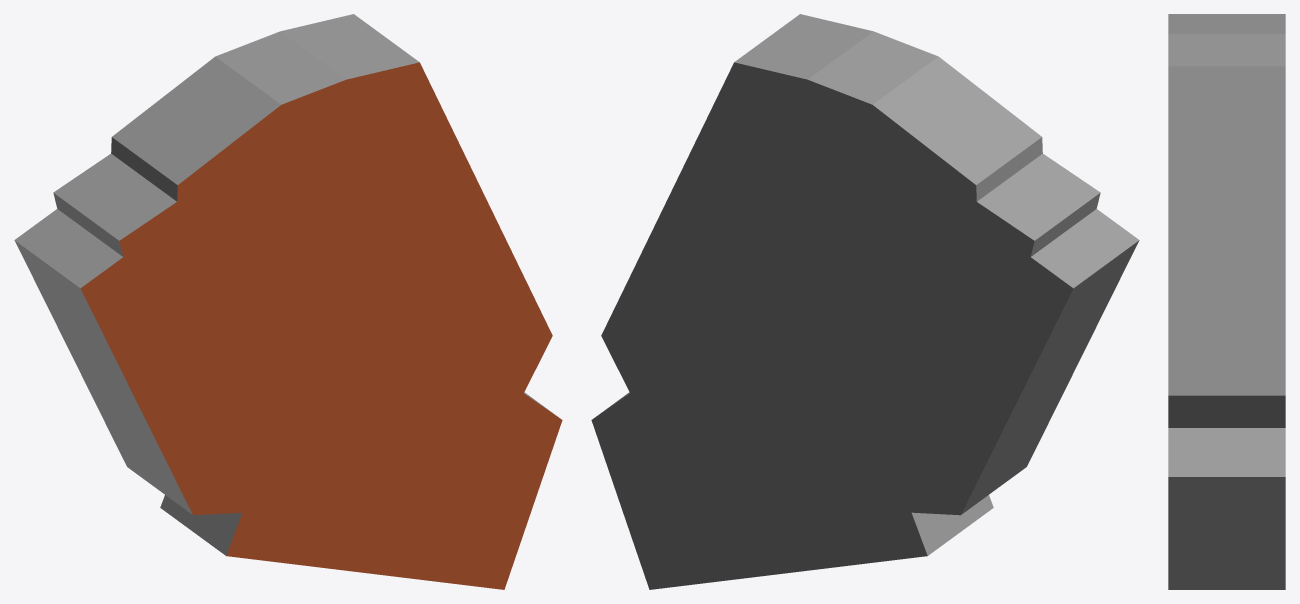
Rendered from construction_1076_assumed_A_Casa_h6m.obj.
3 views of the same model, side by side, from view 1: azimuth 30°, elevation 25°; view 2: azimuth 150°, elevation 25°; view 3: azimuth 270°, elevation 25° (orthographic). The views are drawn at different scales.
Visible parts, largest first — view 1: construction_1076_assumed_A_Casa; view 2: construction_1076_assumed_A_Casa; view 3: construction_1076_assumed_A_Casa.
Boxes of the visible parts, x1,y1,x2,y2 form: construction_1076_assumed_A_Casa: (14,14,562,589); construction_1076_assumed_A_Casa: (591,14,1139,589); construction_1076_assumed_A_Casa: (1168,14,1285,589).
Bounding box in the file's own units: 25.29 × 27.52 × 6.
